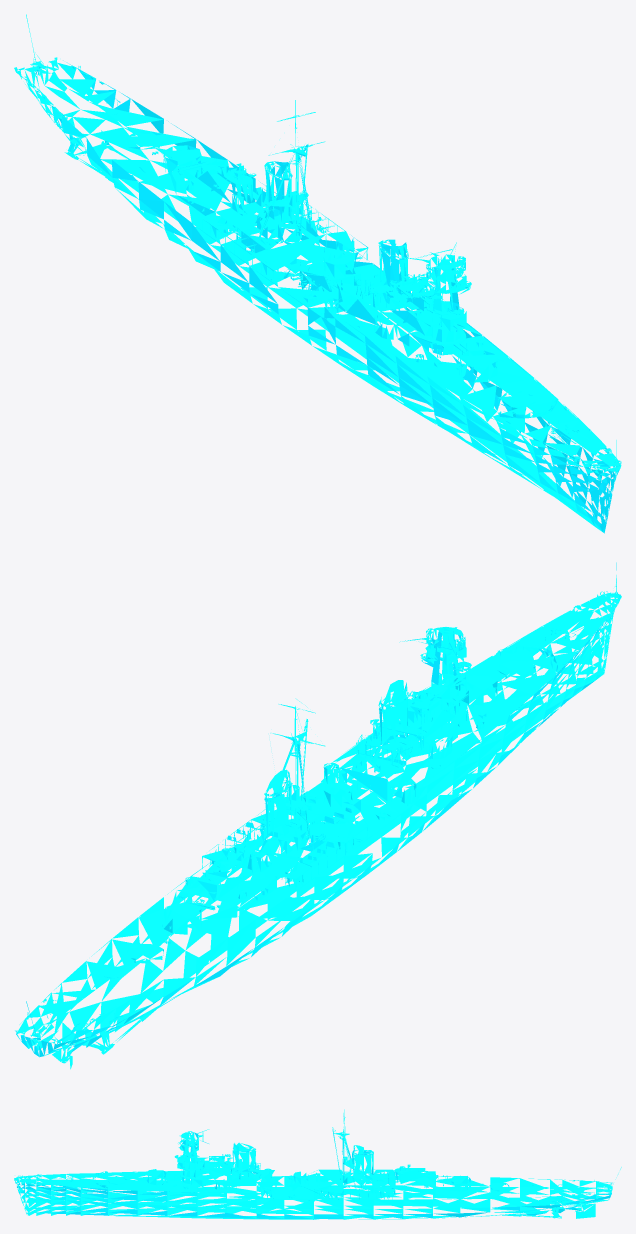
The model's file is Black_Lazo.glb.
3 renders of one model, top to bottom at view 1: azimuth 30°, elevation 25°; view 2: azimuth 150°, elevation 25°; view 3: azimuth 270°, elevation 25°, orthographic. The views are drawn at different scales.
Bounding box in the file's own units: 1.25 × 2.68 × 13.46.
